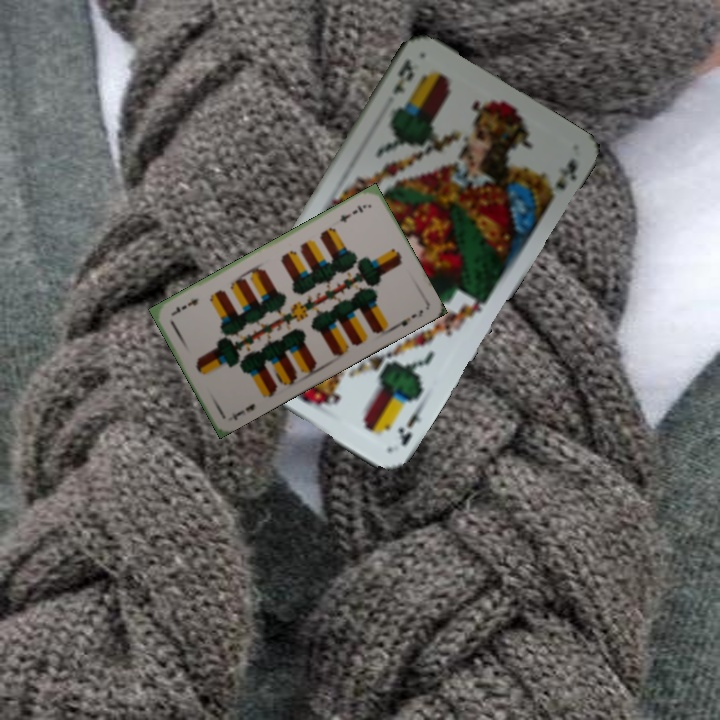E7: (335, 200, 369, 225), (228, 400, 257, 423)
EK: (393, 400, 427, 449), (388, 54, 417, 97)
